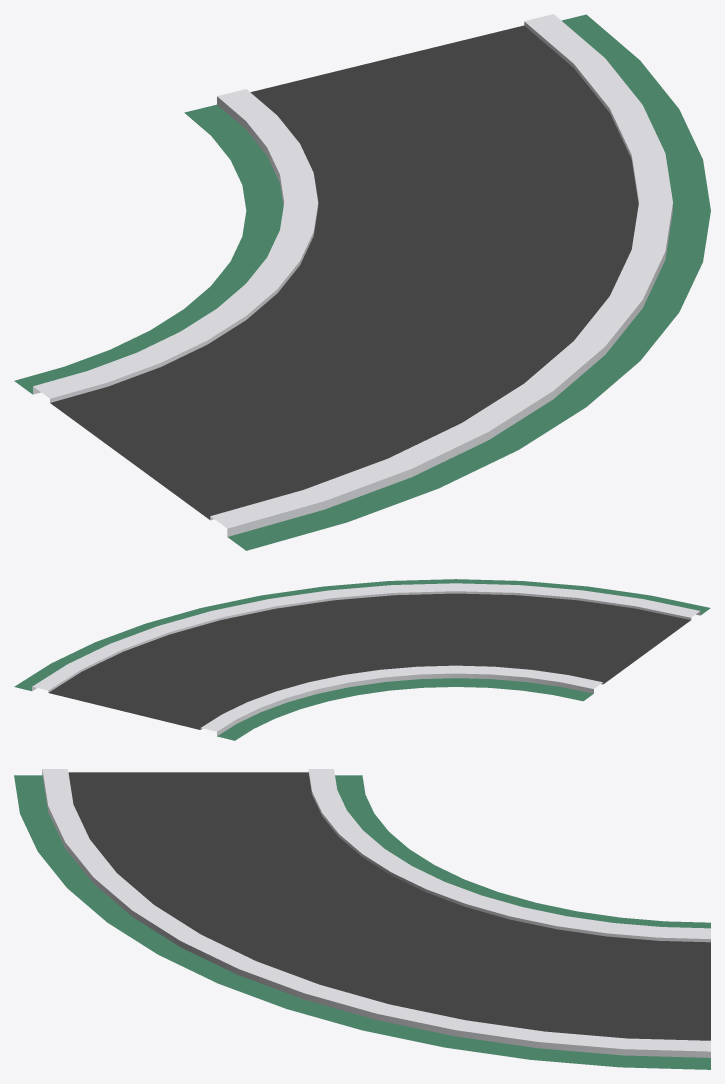
File: roadCornerLarge.obj
3 renders of one model, top to bottom at view 1: azimuth 30°, elevation 25°; view 2: azimuth 150°, elevation 25°; view 3: azimuth 270°, elevation 25°, orthographic. The views are drawn at different scales.
Parts seen in each view (by area): view 1: roadCornerLarge; view 2: roadCornerLarge; view 3: roadCornerLarge.
Part boxes in pixels (box(x1,y1,x2,y2)): roadCornerLarge: box(14, 14, 710, 550); roadCornerLarge: box(14, 579, 710, 740); roadCornerLarge: box(14, 769, 710, 1069).
Bounding box in the file's own units: 2 × 0.02 × 2.
